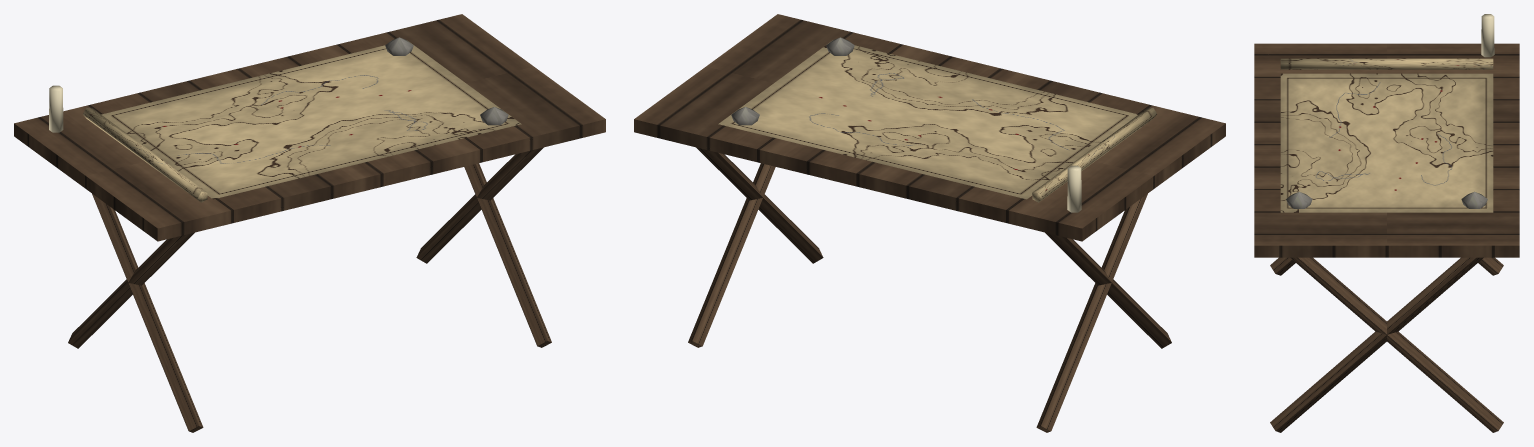
File: Map_Table_1_LOD1.gltf
3 views of the same model, side by side, from view 1: azimuth 30°, elevation 25°; view 2: azimuth 150°, elevation 25°; view 3: azimuth 270°, elevation 25° (orthographic). The views are drawn at different scales.
Parts seen in each view (by area): view 1: Map_Table_1_LOD1; view 2: Map_Table_1_LOD1; view 3: Map_Table_1_LOD1.
Part boxes in pixels (<box>): Map_Table_1_LOD1: <box>14,14,605,432</box>; Map_Table_1_LOD1: <box>634,14,1225,432</box>; Map_Table_1_LOD1: <box>1254,14,1519,432</box>.
Size of the model in its own units: 1.8 by 1.03 by 1.
Materials: 4 (4 with a texture image).
